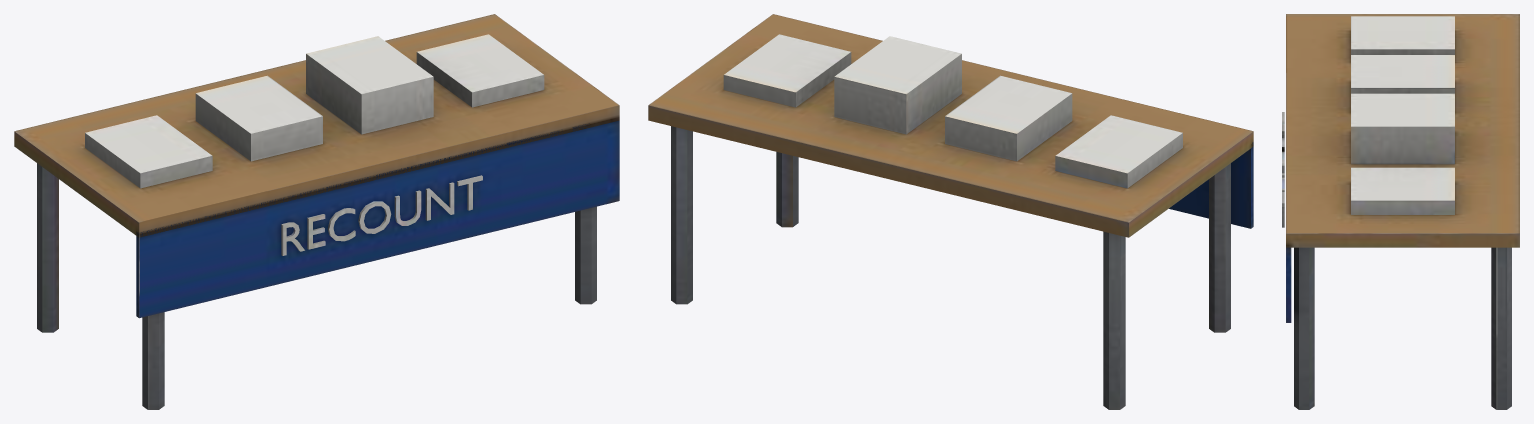
Rendered from mesa_recuento.glb.
3 renders of one model, left to right at view 1: azimuth 30°, elevation 25°; view 2: azimuth 150°, elevation 25°; view 3: azimuth 270°, elevation 25°, orthographic. The views are drawn at different scales.
Parts seen in each view (by area): view 1: mesa_recuento; view 2: mesa_recuento; view 3: mesa_recuento.
Boxes of the visible parts, x1,y1,x2,y2 form: mesa_recuento: (14, 14, 619, 409); mesa_recuento: (648, 14, 1253, 409); mesa_recuento: (1282, 14, 1519, 409).
Bounding box in the file's own units: 2 × 0.94 × 0.915.
1 material, 1 textured.
